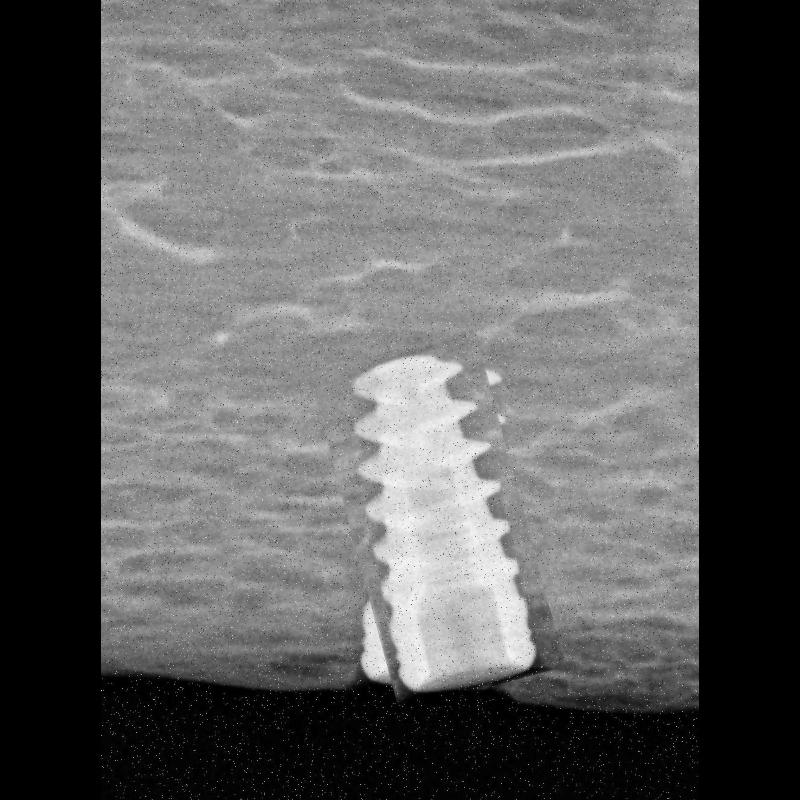ADIN: (330, 337, 544, 703)
